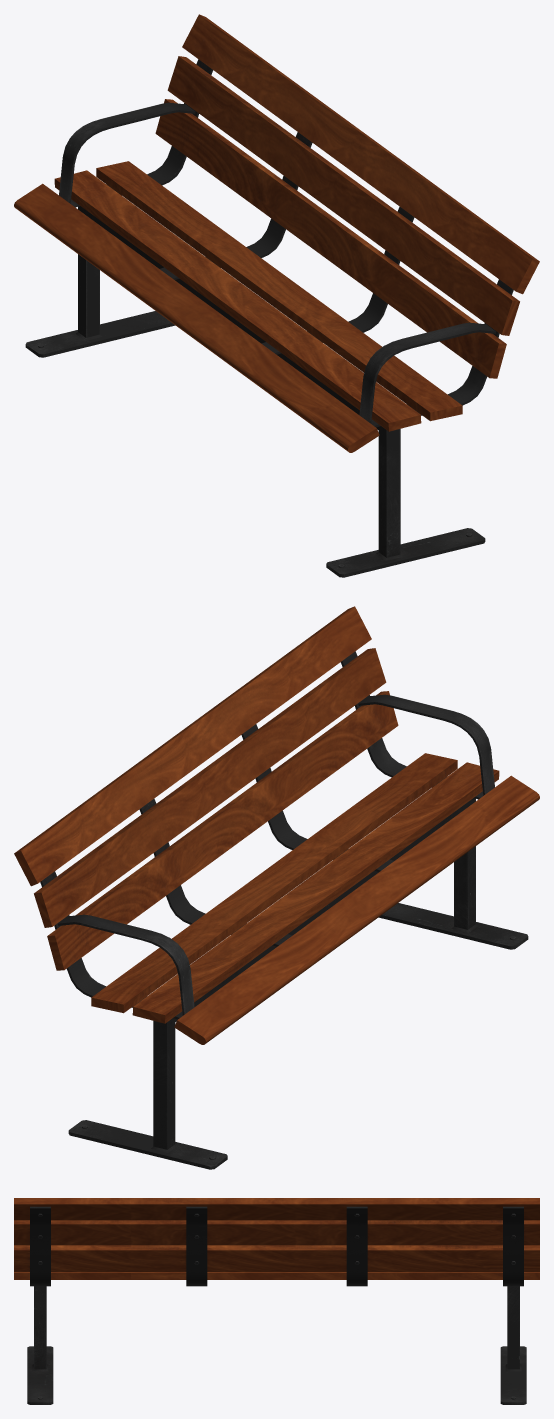
The model's file is Bench_4.glb.
3 views of the same model, one above another, from view 1: azimuth 30°, elevation 25°; view 2: azimuth 150°, elevation 25°; view 3: azimuth 270°, elevation 25° (orthographic). The views are drawn at different scales.
Visible parts, largest first — view 1: Bench_4_01_low; view 2: Bench_4_01_low; view 3: Bench_4_01_low.
Part boxes in pixels (x1=…): Bench_4_01_low: x1=14, y1=14, x2=539, y2=577; Bench_4_01_low: x1=14, y1=606, x2=539, y2=1169; Bench_4_01_low: x1=14, y1=1198, x2=539, y2=1404.
Size of the model in its own units: 0.5927 by 0.8292 by 1.79.
1 material, 1 textured.
